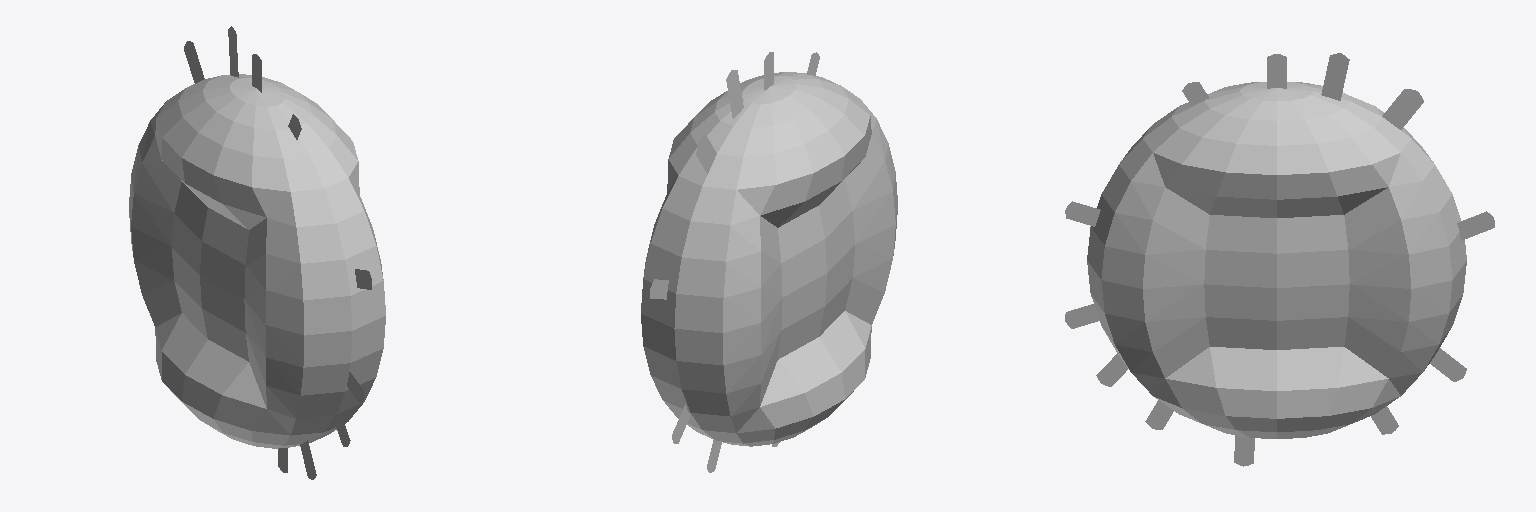
File: APC.obj
3 views of the same model, side by side, from view 1: azimuth 30°, elevation 25°; view 2: azimuth 150°, elevation 25°; view 3: azimuth 270°, elevation 25° (orthographic).
Parts seen in each view (by area): view 1: Plane.001; view 2: Plane.001; view 3: Plane.001.
Boxes of the visible parts, <box> form: Plane.001: <box>129,26,385,479</box>; Plane.001: <box>641,52,897,472</box>; Plane.001: <box>1065,53,1494,466</box>.
Bounding box in the file's own units: 0.9192 × 2.39 × 2.26.